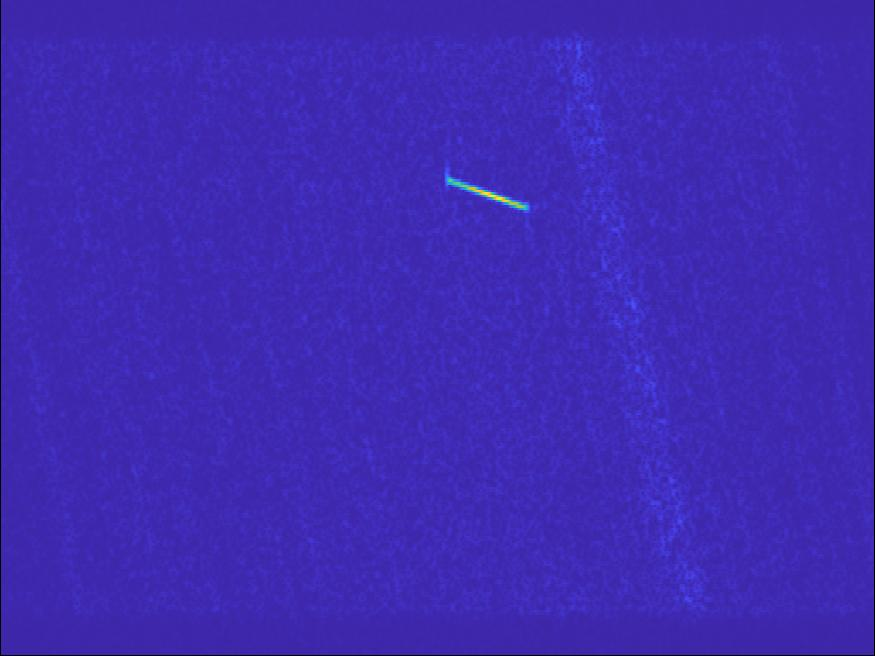Interference: (655, 305, 875, 506), (684, 25, 875, 213), (93, 283, 328, 367), (462, 603, 606, 653)
